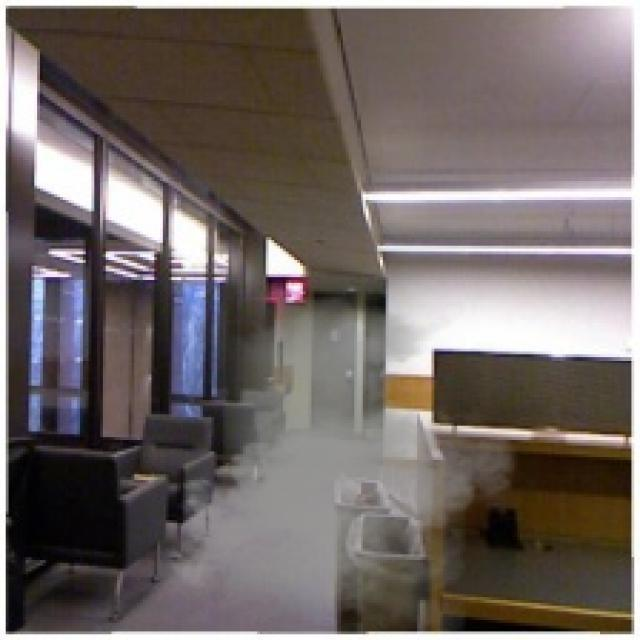Smoke: (157, 288, 532, 634)
